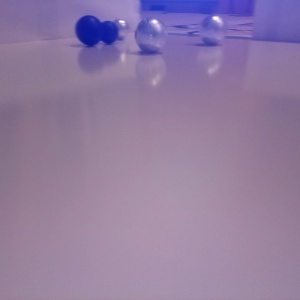alive_ball: (135, 17, 167, 53), (199, 15, 225, 45), (112, 19, 129, 39)
dead_ball: (75, 14, 103, 46), (98, 20, 118, 44)
